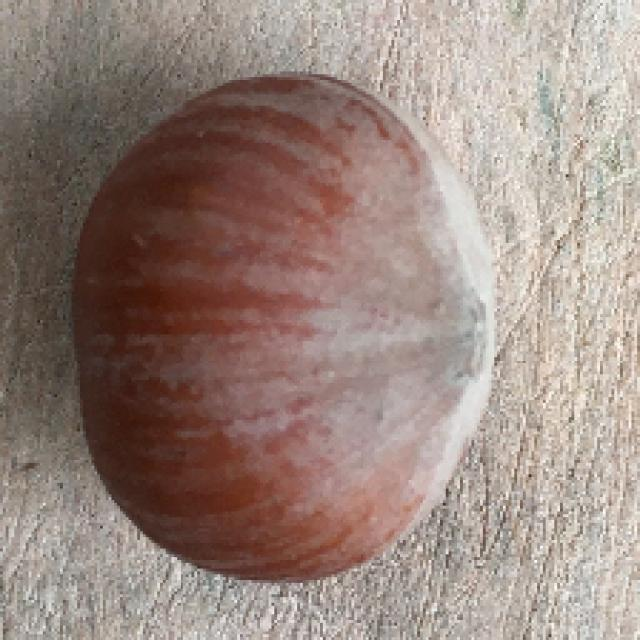hazelnut: (72, 70, 504, 595)
